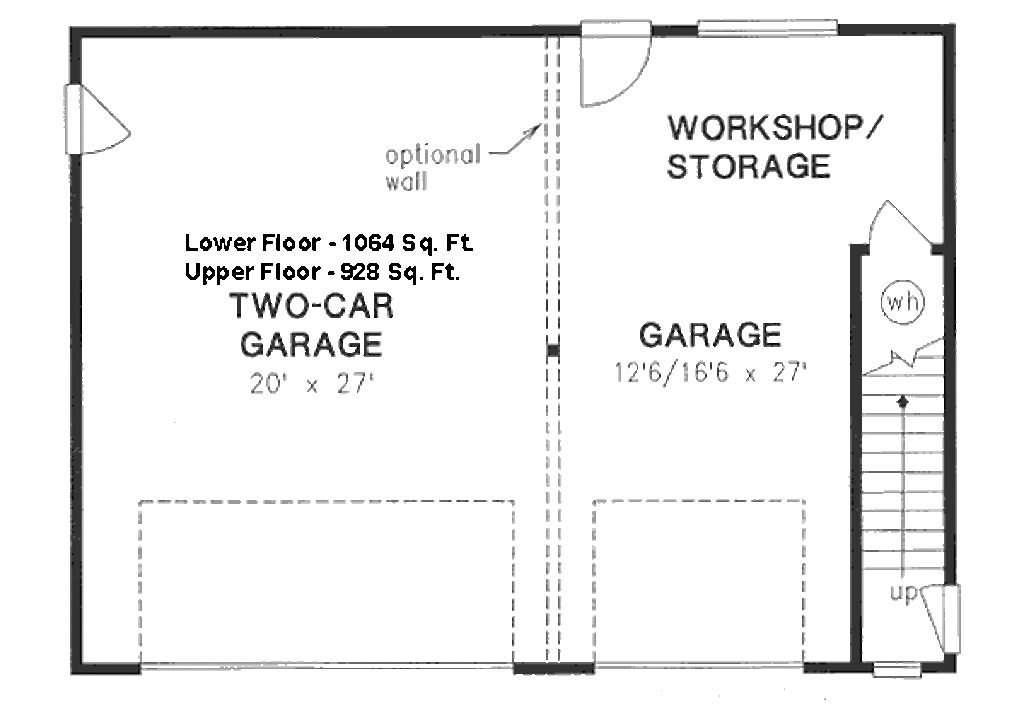door: (585, 23, 651, 104), (66, 83, 131, 156), (864, 198, 935, 246)
stairs: (864, 317, 943, 574)
window: (697, 20, 835, 38), (874, 664, 926, 675)
